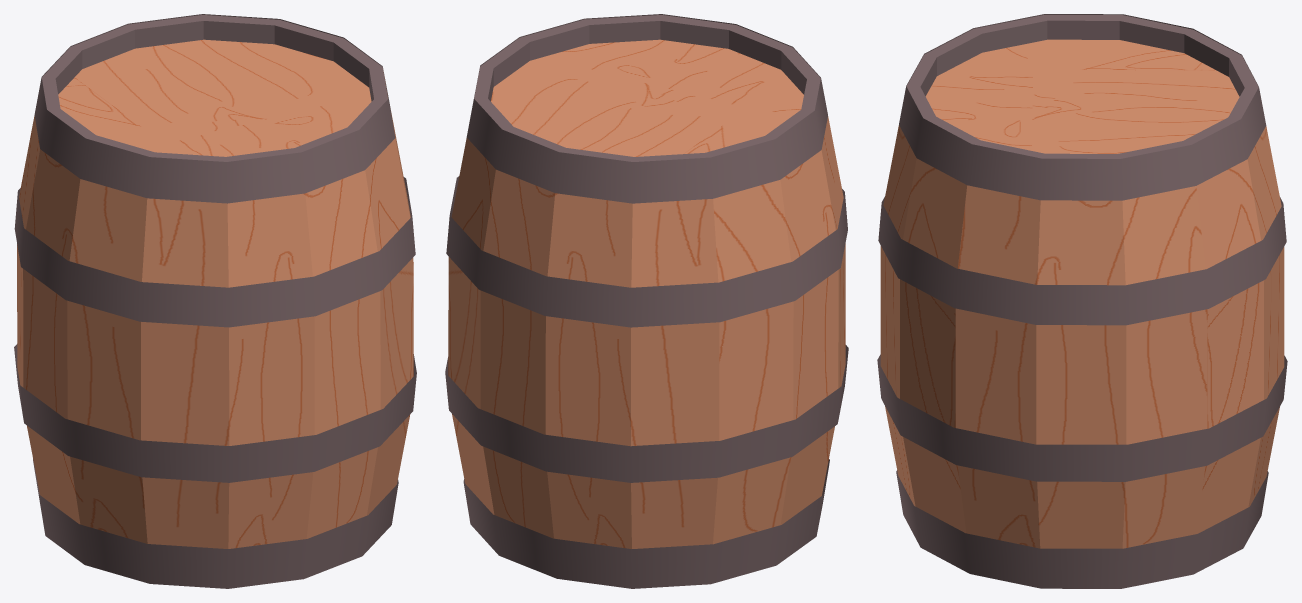
Rendered from barril_sin_triangular.obj.
3 renders of one model, left to right at view 1: azimuth 30°, elevation 25°; view 2: azimuth 150°, elevation 25°; view 3: azimuth 270°, elevation 25°, orthographic.
Visible parts, largest first — view 1: barril:Mesh group7; view 2: barril:Mesh group7; view 3: barril:Mesh group7.
Boxes of the visible parts, x1=… form: barril:Mesh group7: x1=14, y1=14, x2=416, y2=588; barril:Mesh group7: x1=445, y1=14, x2=848, y2=588; barril:Mesh group7: x1=877, y1=14, x2=1287, y2=588.
Size of the model in its own units: 1.85 by 2.2 by 1.9.
Materials: 2 (2 with a texture image).
